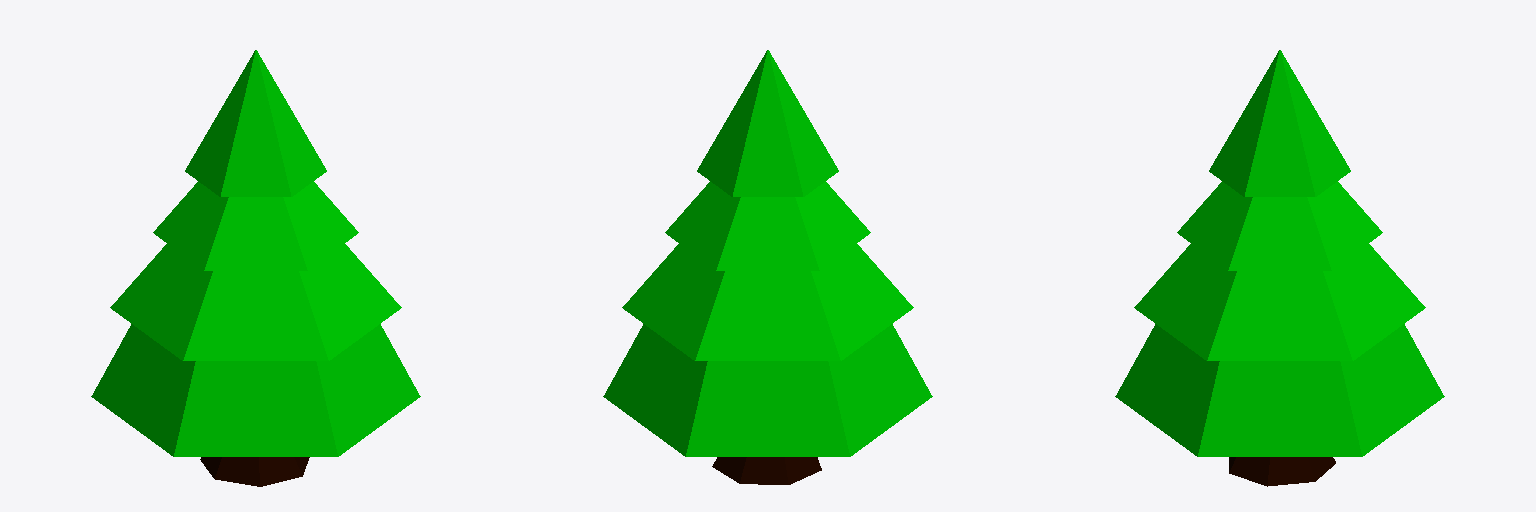
File: fir.obj
3 renders of one model, left to right at view 1: azimuth 30°, elevation 25°; view 2: azimuth 150°, elevation 25°; view 3: azimuth 270°, elevation 25°, orthographic.
Visible parts, largest first — view 1: fir; view 2: fir; view 3: fir.
Boxes of the visible parts, x1=… form: fir: x1=91, y1=50, x2=420, y2=486; fir: x1=603, y1=50, x2=932, y2=484; fir: x1=1115, y1=50, x2=1444, y2=486.
Size of the model in its own units: 1.19 by 1.91 by 1.38.